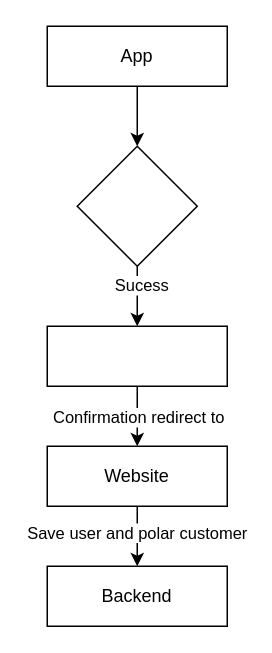
This 272x653 diagram has some shape labels left out. Here are the shapes that lost their labels. From the top down, the centre of each, then its label:
At point (136, 205): "Sign up".
At point (136, 355): "Email".
